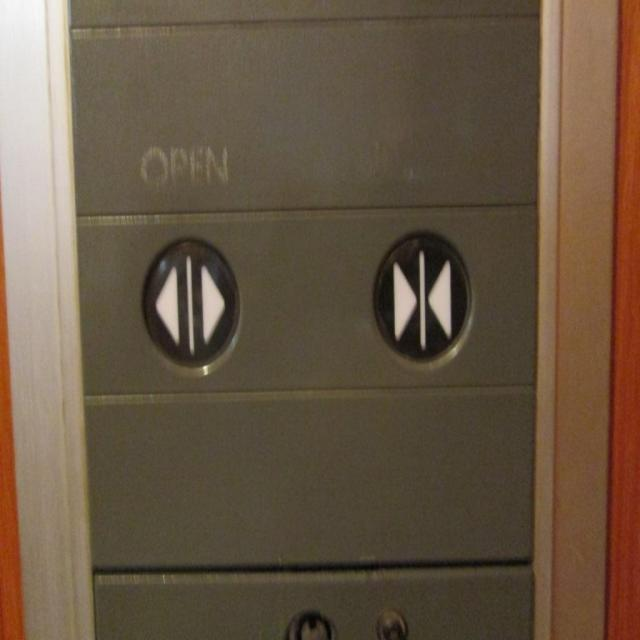close: (366, 222, 476, 372)
open: (134, 229, 246, 379)
